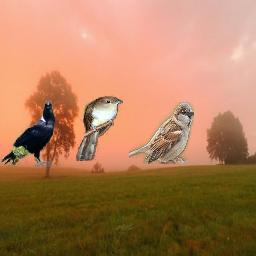Crow: (1, 101, 56, 168)
Cuckoo: (77, 95, 124, 161)
Sparrow: (130, 102, 195, 164)
